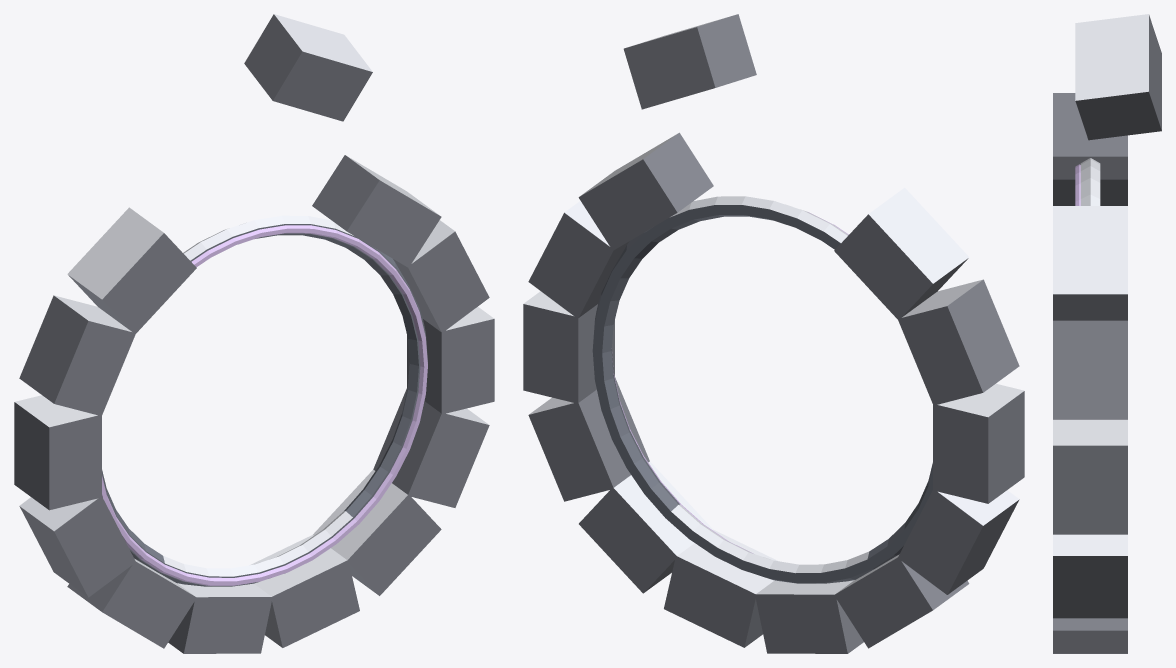
File: PR_Montagem_Anel.fbx
The picture shows the model from 3 angles, left to right: view 1: azimuth 30°, elevation 25°; view 2: azimuth 150°, elevation 25°; view 3: azimuth 270°, elevation 25°; orthographic projection. The views are drawn at different scales.
Visible parts, largest first — view 1: PR_Montagem_Anel; view 2: PR_Montagem_Anel; view 3: PR_Montagem_Anel.
Part boxes in pixels (x1=…): PR_Montagem_Anel: x1=14, y1=14, x2=494, y2=653; PR_Montagem_Anel: x1=523, y1=14, x2=1024, y2=653; PR_Montagem_Anel: x1=1053, y1=14, x2=1161, y2=653.
Bounding box in the file's own units: 5.9 × 7.51 × 1.16.
